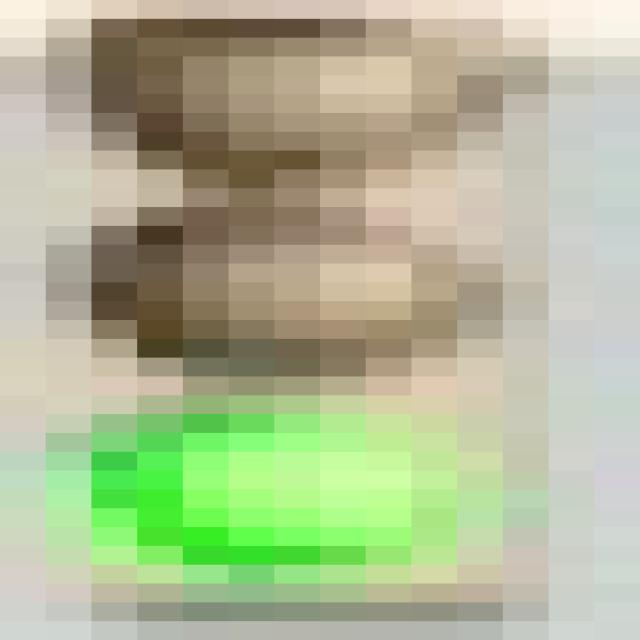green_light: (2, 12, 608, 555)
